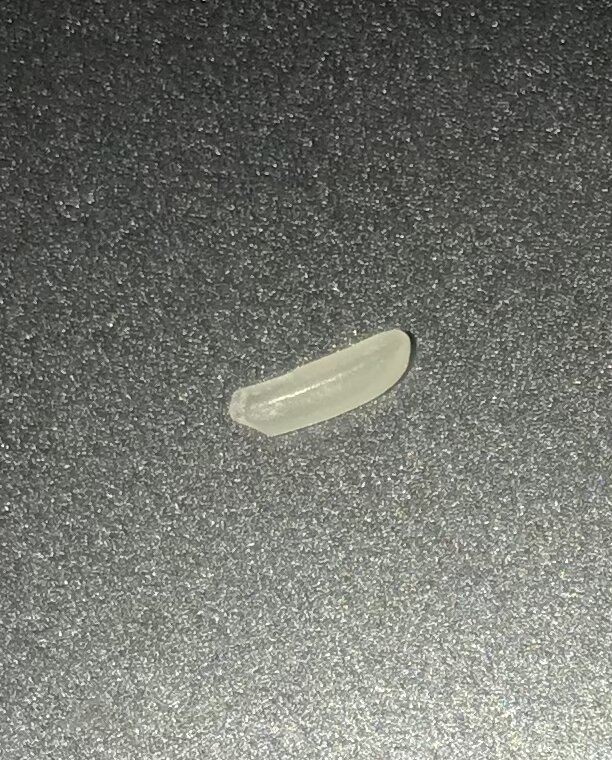Gao Long Lai: (227, 330, 421, 452)
